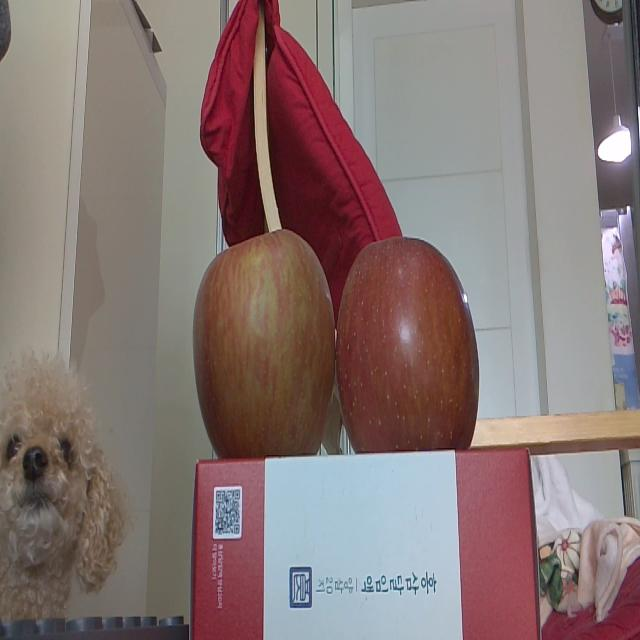apple: (191, 228, 335, 462), (334, 233, 480, 457)
